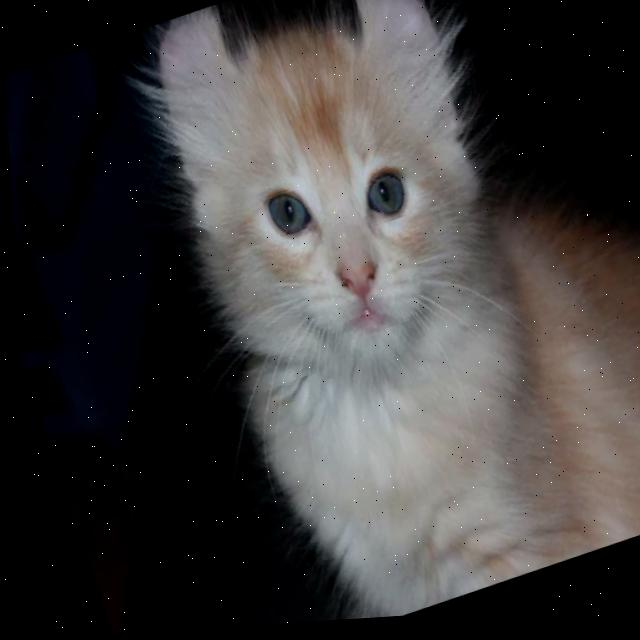American Curl: (104, 0, 640, 635)
